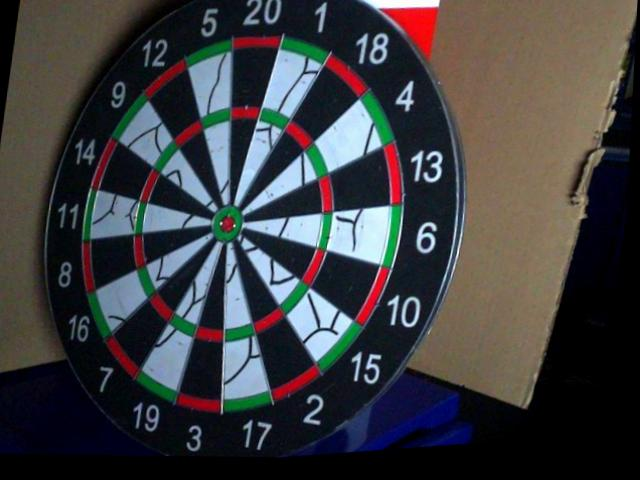double_10: (353, 265, 390, 328)
double_12: (140, 59, 185, 107)
double_13: (378, 142, 410, 207)
double_14: (89, 140, 109, 188)
double_18: (318, 53, 376, 102)
double_2: (271, 366, 319, 405)
double_20: (234, 32, 281, 53)
double_3: (174, 390, 223, 417)
double_7: (103, 336, 142, 379)
double_8: (75, 242, 102, 295)
